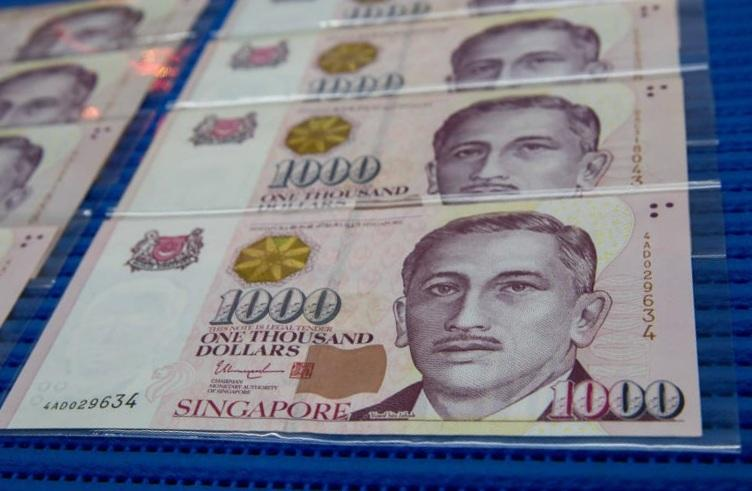1000SingaporeDollar: (43, 204, 690, 426)
